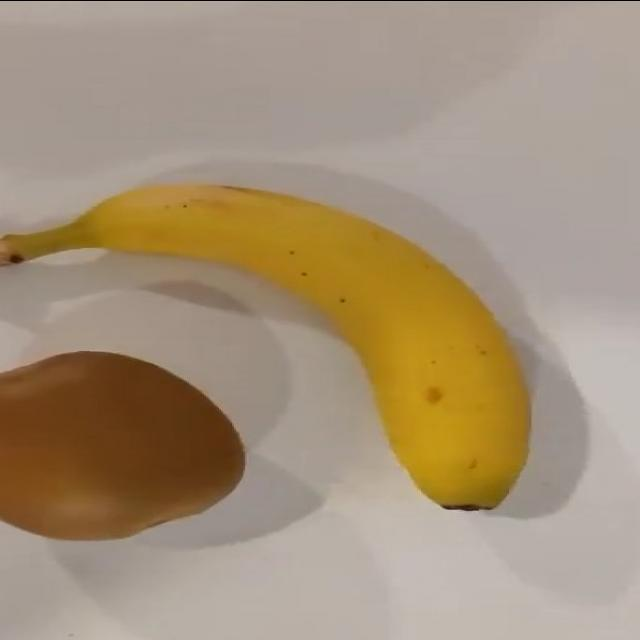Banana: (0, 187, 534, 513)
